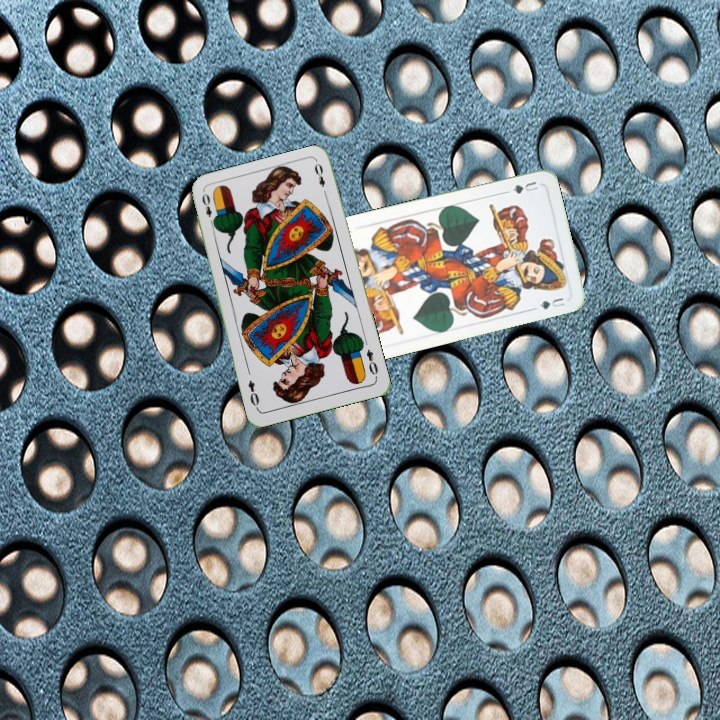EO: (198, 189, 218, 229), (362, 345, 381, 381)
GU: (502, 177, 540, 196)
